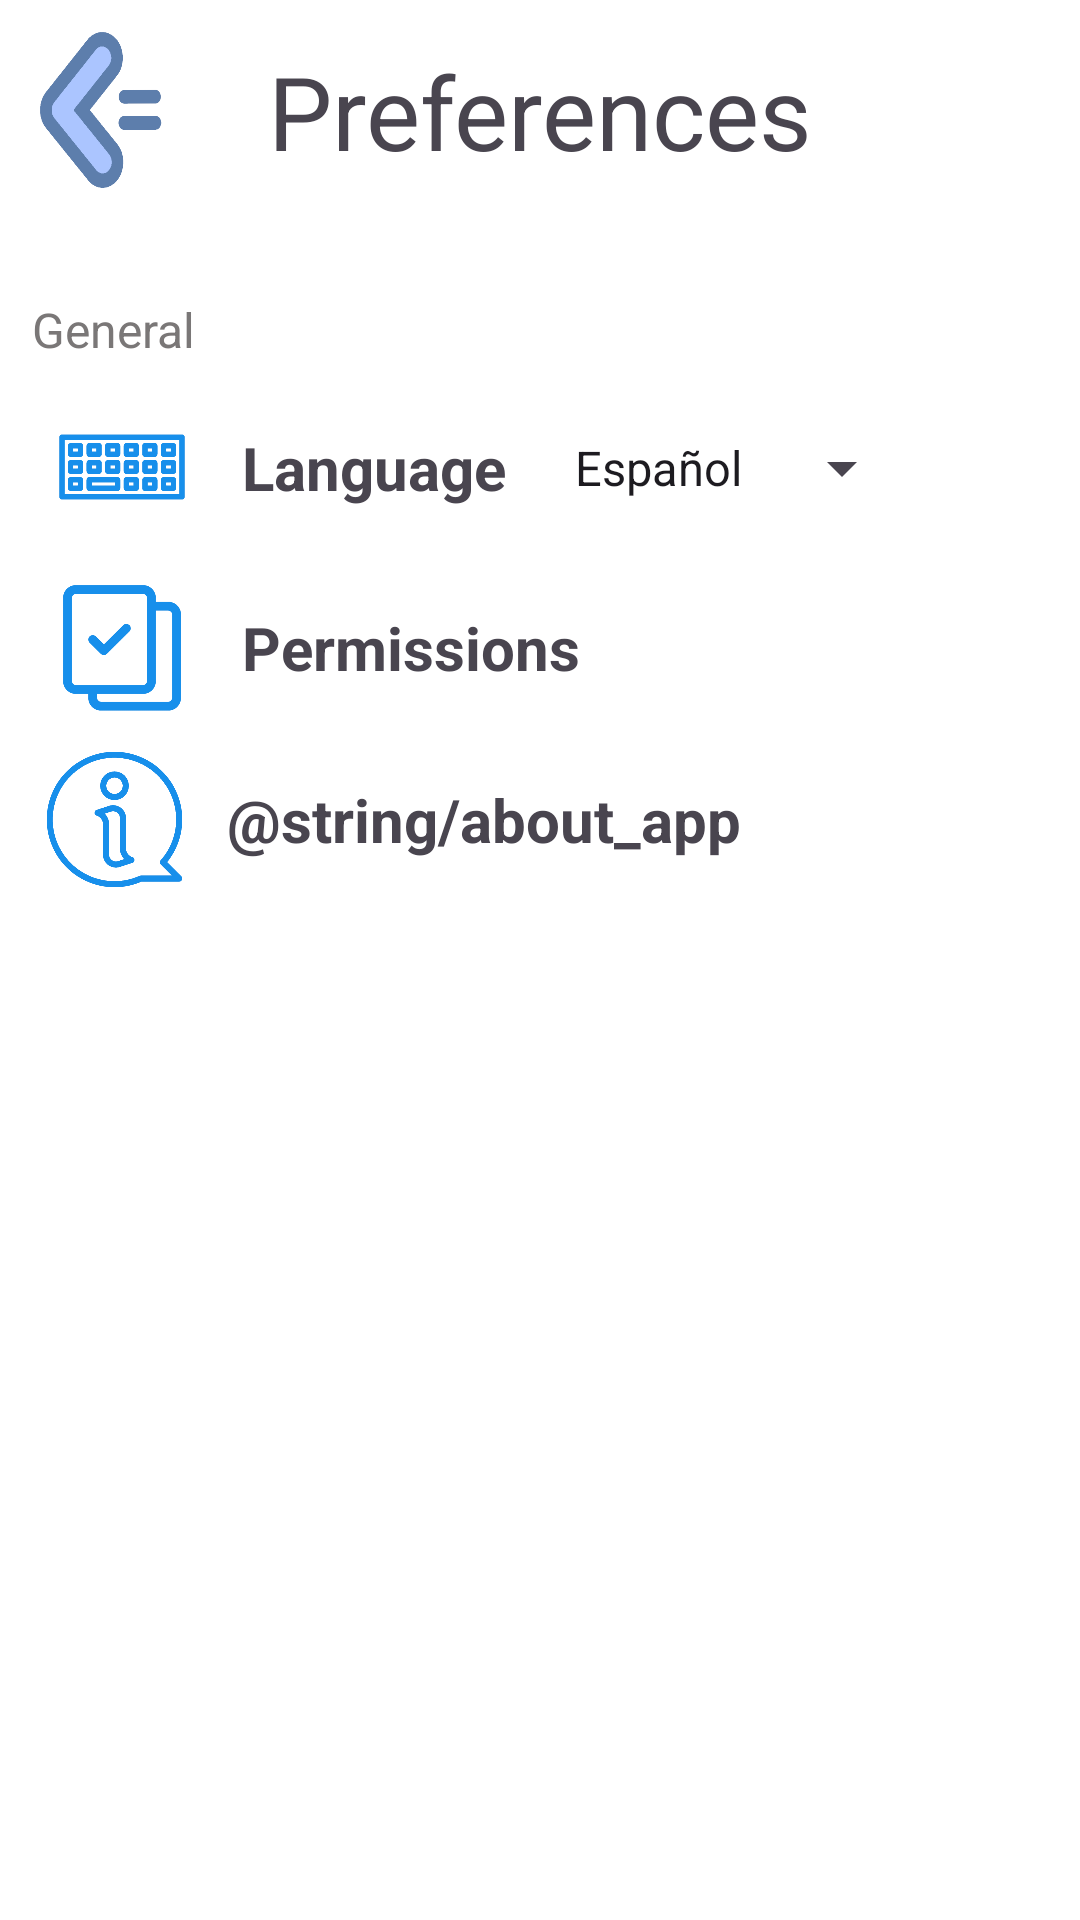

Screen size 1080w x 1920h. Icon name, then its box in pixels as (x1, y1, x2, y2):
arrow: (40, 32, 162, 188)
info: (47, 752, 182, 887)
keyboard: (59, 434, 185, 500)
